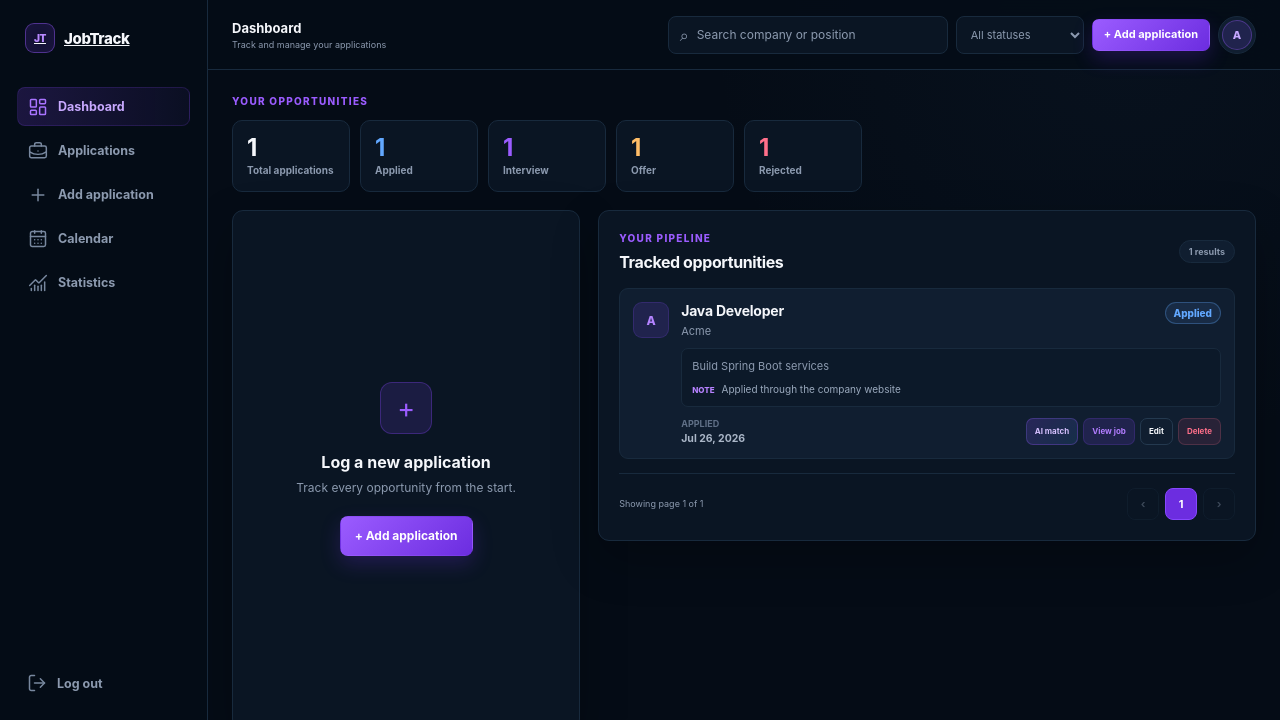
Test case: ApplicationsPage › deletes an application only after confirmation
Expected: the heading "Java Developer" is shown, [681,302,784,320]
Click the button "Delete".
click(1199, 431)  # box [1178,418,1221,445]
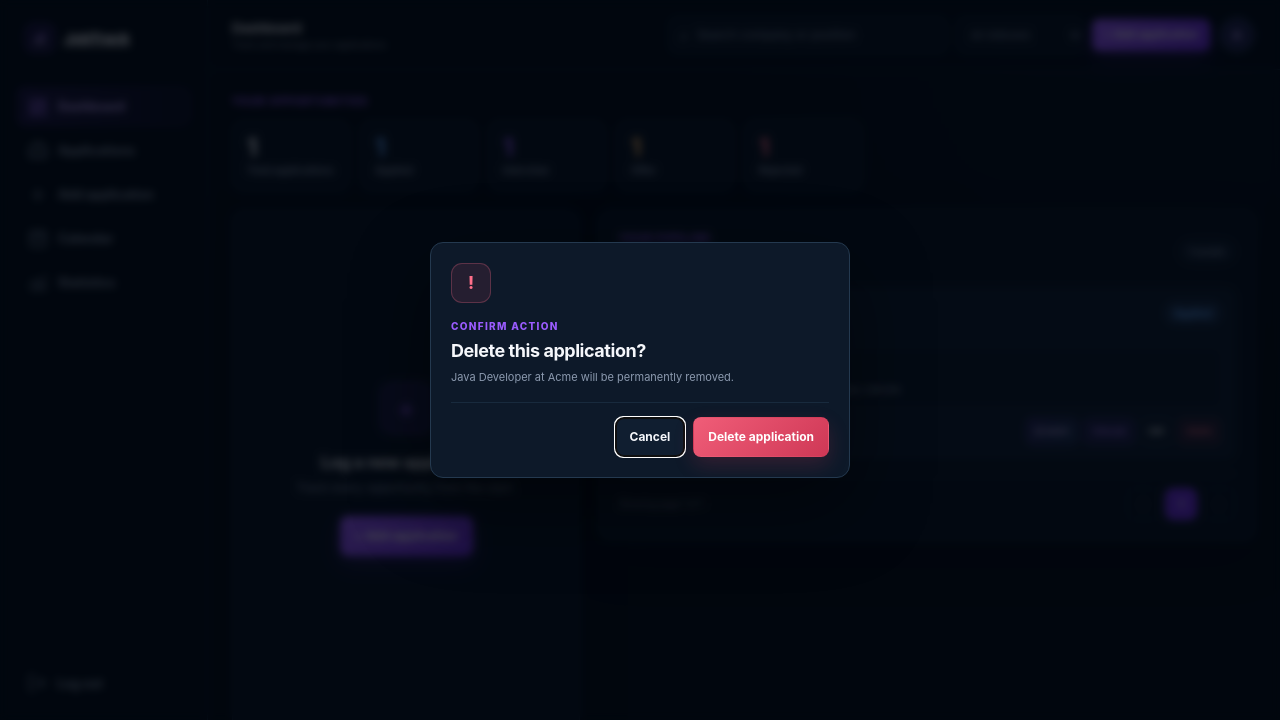
Expected: the heading "Delete this application?" is shown, [451,340,646,361]
Click the button "Delete application".
click(761, 437)  # box [693,417,829,457]
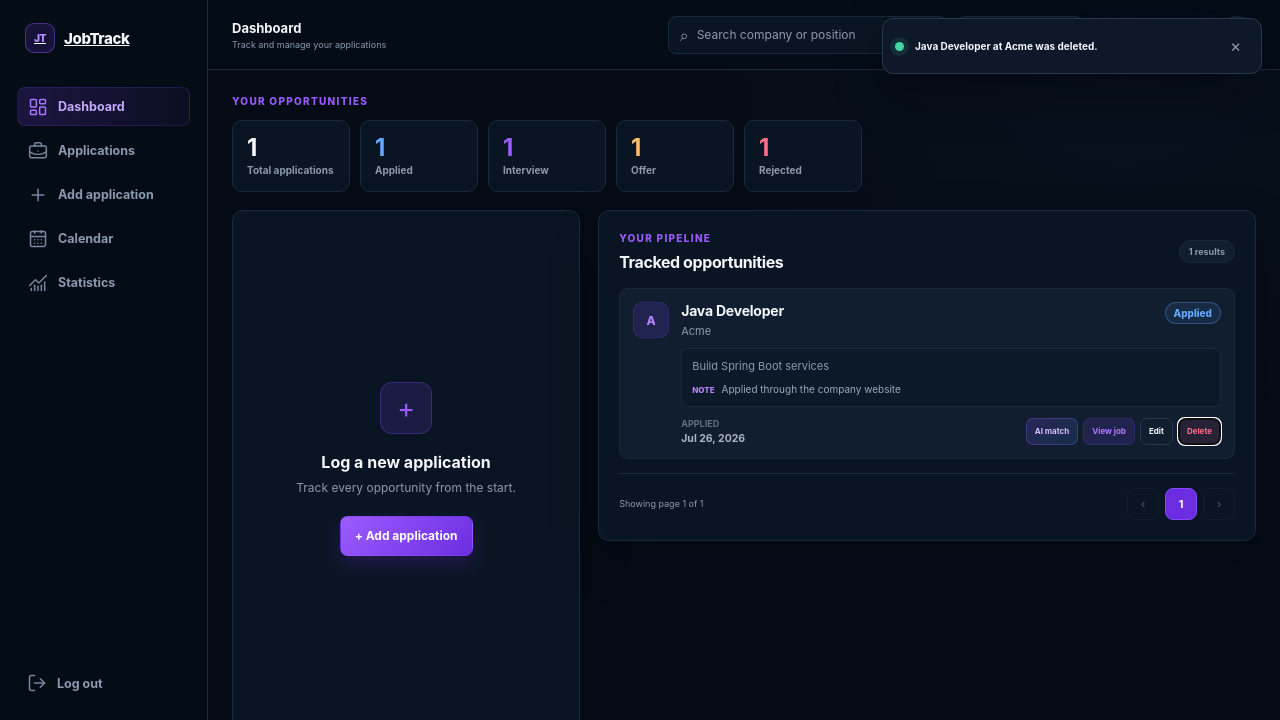
Expected: the text "Java Developer at Acme was deleted." is shown, [915,40,1098,52]
